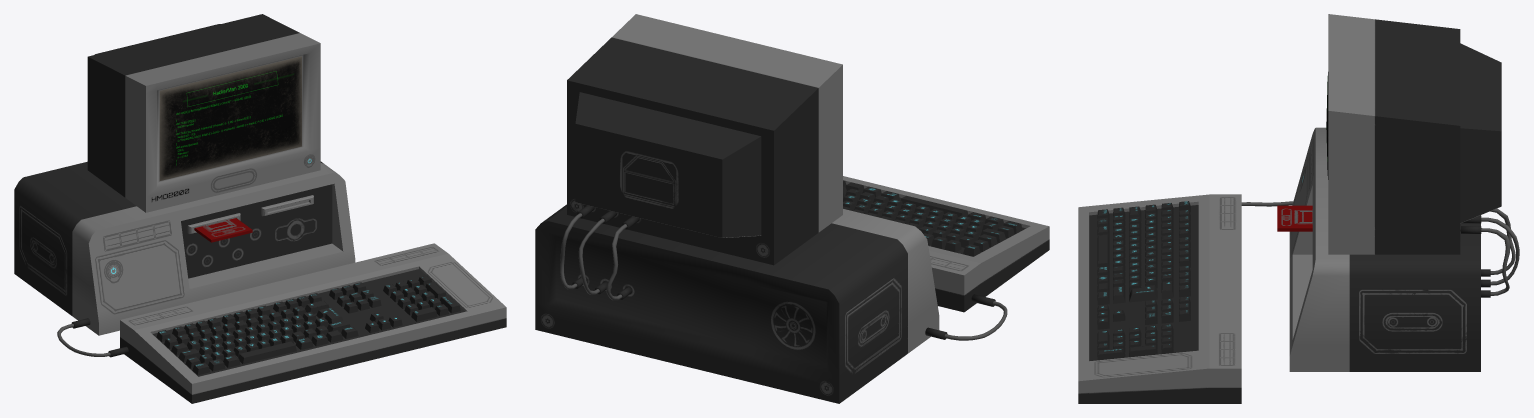
File: computadora.obj
3 renders of one model, left to right at view 1: azimuth 30°, elevation 25°; view 2: azimuth 150°, elevation 25°; view 3: azimuth 270°, elevation 25°, orthographic. The views are drawn at different scales.
Visible parts, largest first — view 1: scifi_computer_computer_0, scifi_computer_keyboard_0, scifi_computer_screen_0, scifi_computer_keys_0; view 2: scifi_computer_computer_0, scifi_computer_keyboard_0, scifi_computer_keys_0, scifi_computer_screen_0; view 3: scifi_computer_computer_0, scifi_computer_keyboard_0, scifi_computer_keys_0, scifi_computer_screen_0.
Boxes of the visible parts, x1,y1,x2,y2 form: scifi_computer_computer_0: (14, 14, 355, 335); scifi_computer_keyboard_0: (120, 195, 506, 403); scifi_computer_screen_0: (57, 56, 301, 357); scifi_computer_keys_0: (156, 275, 460, 375); scifi_computer_computer_0: (535, 14, 939, 403); scifi_computer_keyboard_0: (843, 176, 1049, 312); scifi_computer_keys_0: (843, 180, 1022, 256); scifi_computer_screen_0: (560, 205, 1007, 340); scifi_computer_computer_0: (1277, 14, 1501, 371); scifi_computer_keyboard_0: (1078, 194, 1241, 403); scifi_computer_keys_0: (1097, 201, 1190, 360); scifi_computer_screen_0: (1241, 72, 1519, 297).
Bounding box in the file's own units: 4.84 × 2.9 × 4.61.
